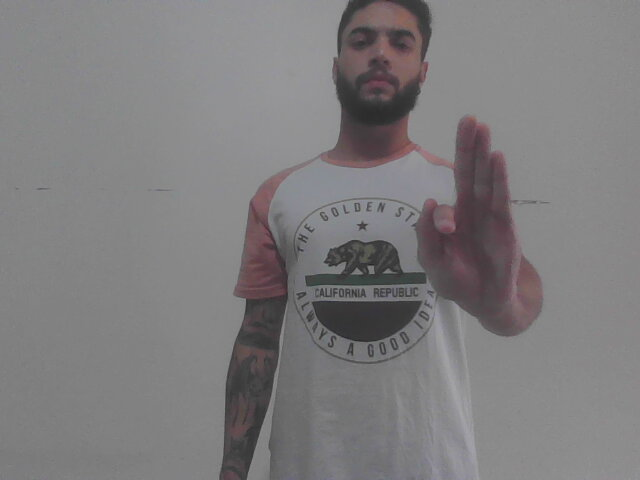f: (406, 109, 525, 326)
